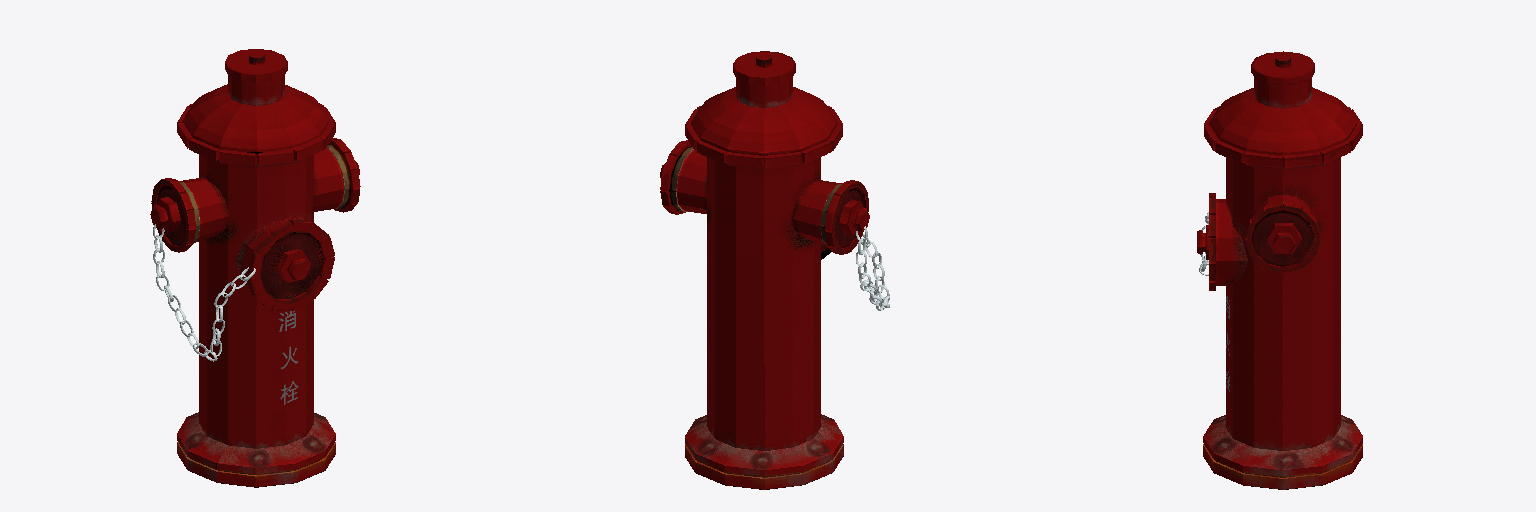
3 views of the same model, side by side, from view 1: azimuth 30°, elevation 25°; view 2: azimuth 150°, elevation 25°; view 3: azimuth 270°, elevation 25° (orthographic).
Visible parts, largest first — view 1: Box001; view 2: Box001; view 3: Box001.
Part boxes in pixels (bbox=[...]): Box001: bbox=[150, 49, 360, 487]; Box001: bbox=[660, 51, 889, 489]; Box001: bbox=[1197, 51, 1362, 489].
Size of the model in its own units: 85.66 by 161 by 61.11.
Materials: 1 (1 with a texture image).